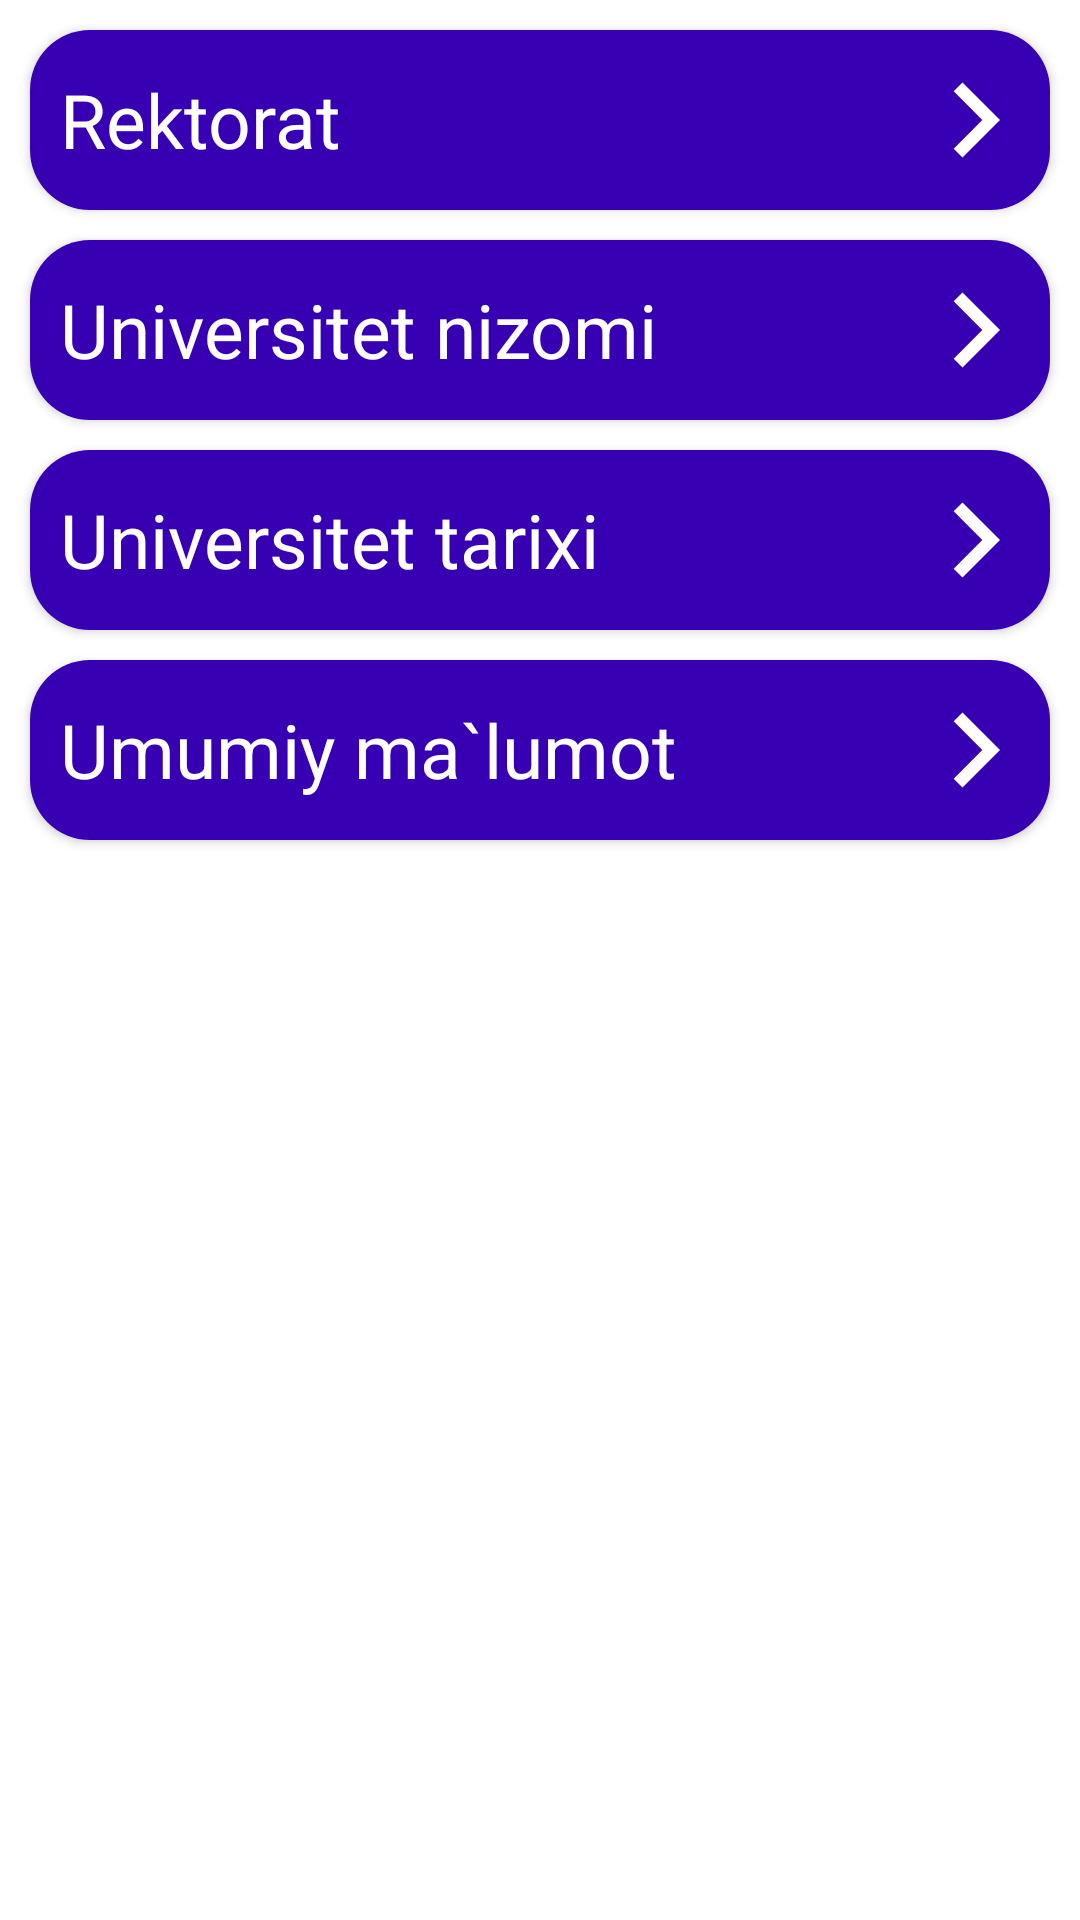

Point at icon controls on the screen. Image size 1080w x 1920h, points as (x=x, y=y).
navigate next: (x=975, y=120), (x=975, y=330), (x=975, y=540), (x=975, y=750)
